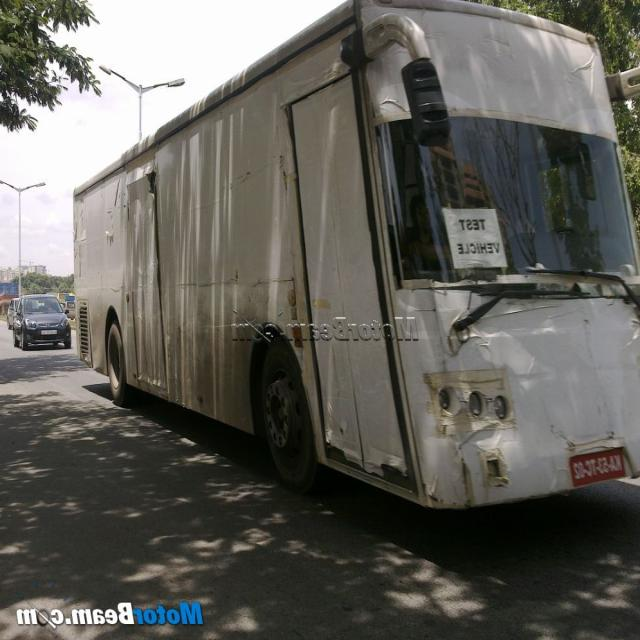bus: (74, 0, 640, 507)
car: (12, 295, 71, 350)
